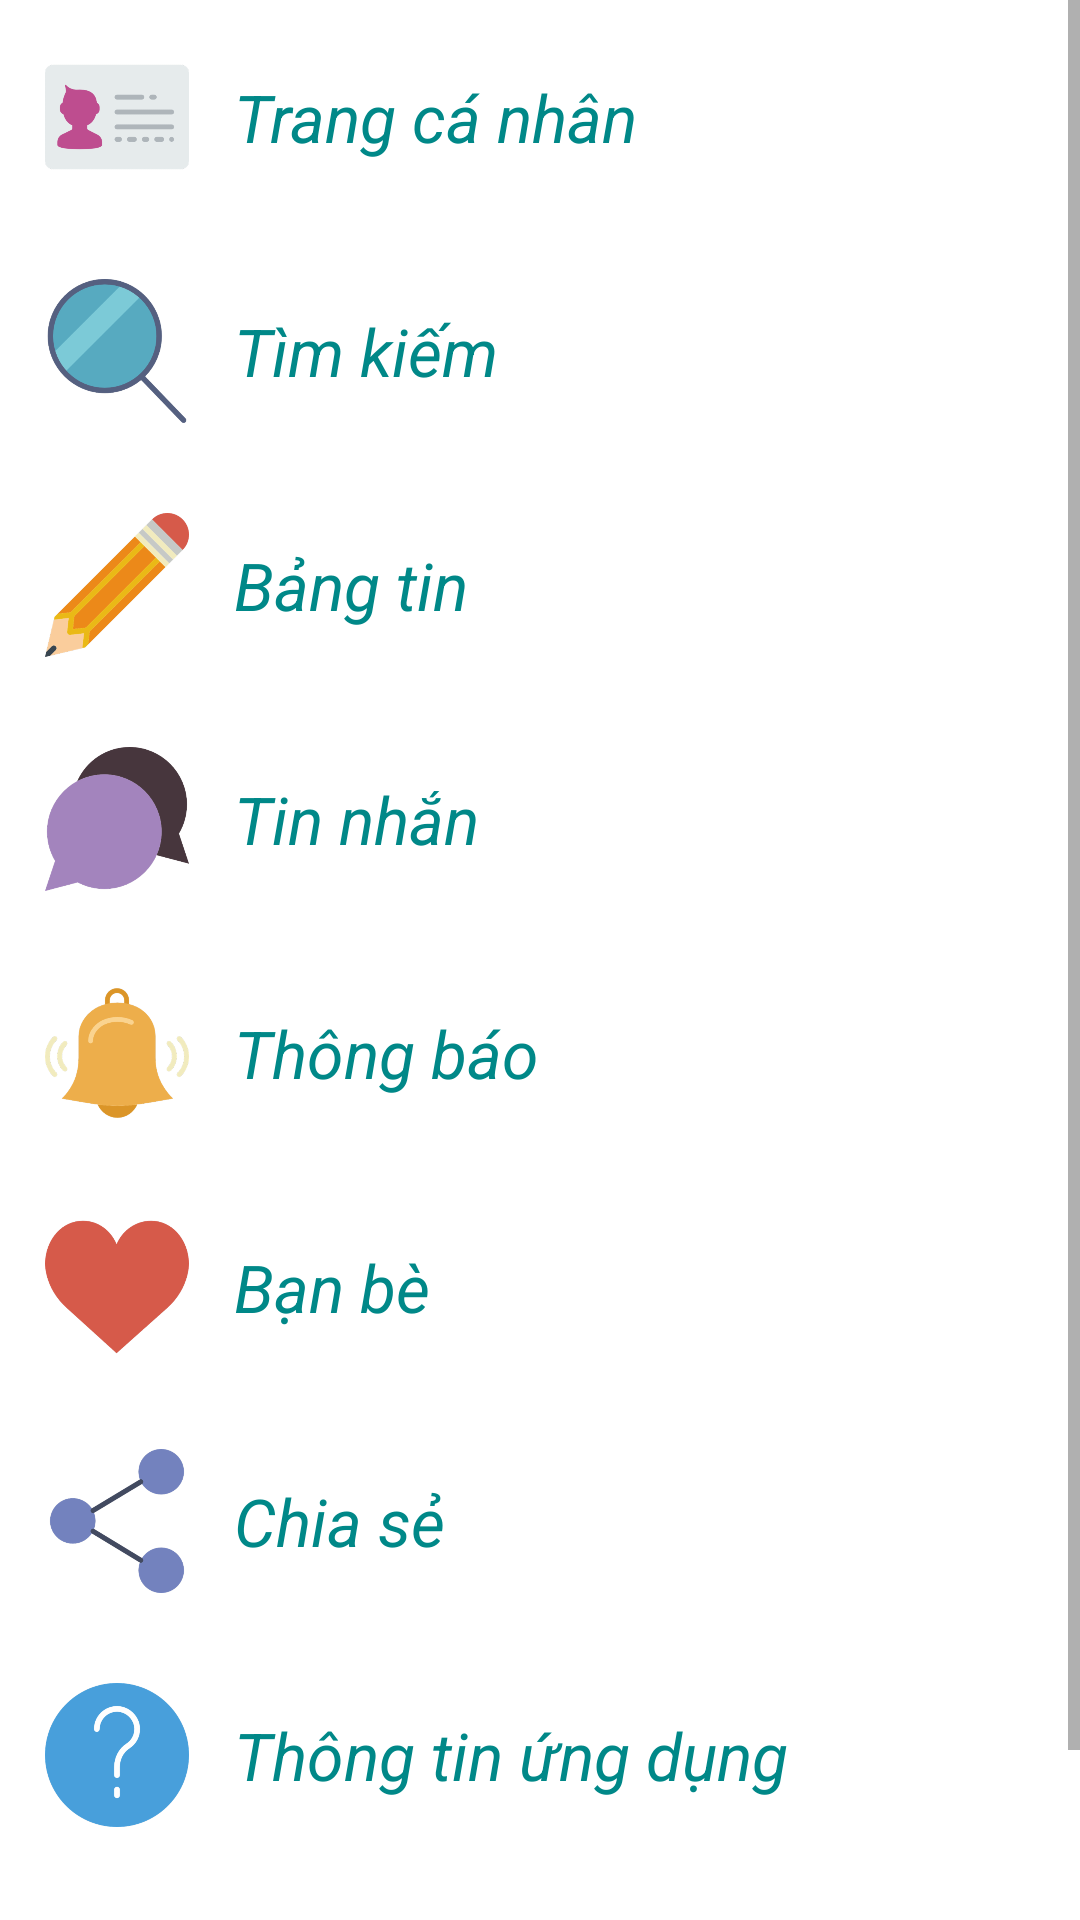

Screen size 1080 × 1920. Icon name, then its center in pixels as [x,y]:
chat: [117,819]
edit: [117,585]
info: [117,1755]
search: [116,351]
share: [117,1521]
